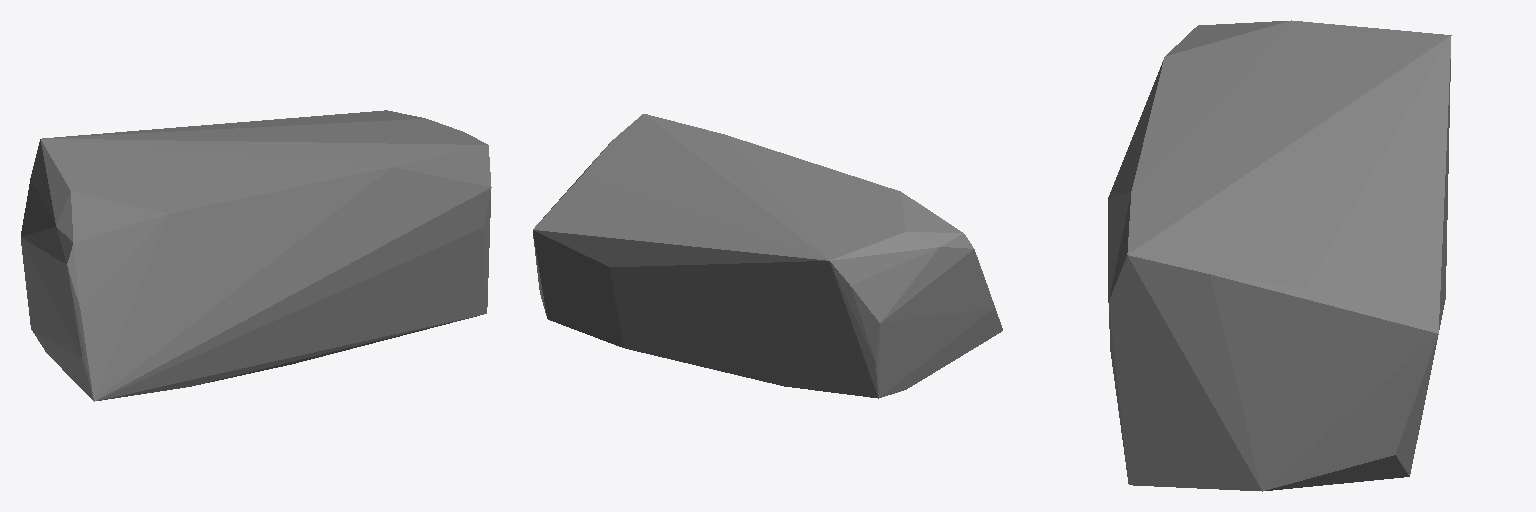
robot.urdf — 10_821:
<?xml version="1.0"?>
<robot name="10_821">
  <link name="link">
    <contact>
      <lateral_friction value="0.6"/>
    </contact>
    <inertial>
      <mass value = "0.4923442919242011"/>
      <inertia ixx="0.00017330136146160875" ixy="3.114372065767428e-07" ixz="-2.079493097768686e-06" iyy="0.00048460420266617434" iyz="4.708192096048134e-06" izz="0.0005226505099957762" />
    </inertial>
    <visual name="visual">
      <geometry>
        <mesh filename="10_821.obj"/>
      </geometry>
      <material name="material">
        <color rgba="0.5554485321897764 0.5554485321897764 0.5554485321897764 1.0"/>
      </material>
    </visual>
    <collision name="collision">
      <geometry>
        <mesh filename="10_821.obj"/>
      </geometry>
    </collision>
  </link>
</robot>

--- What the picture shows (computed from the rendered views, not written in the file) ---
3 views of the same robot in one strip: view 1: azimuth 30°, elevation 25°; view 2: azimuth 150°, elevation 25°; view 3: azimuth 270°, elevation 25° (orthographic).
Model 10_821 with 1 links and 0 joints (none), rooted at link, posed every joint at zero.
Visible links, largest first — view 1: link; view 2: link; view 3: link.
Link boxes in pixels (box(x1,y1,x2,y2)): link: box(21, 110, 491, 401); link: box(533, 114, 1002, 398); link: box(1108, 20, 1451, 491).
Bounding box of the posed robot: 0.1125 × 0.0572 × 0.0436 m (x, y, z).
1 mesh visuals loaded from 1 distinct referenced files (1 OBJ).
